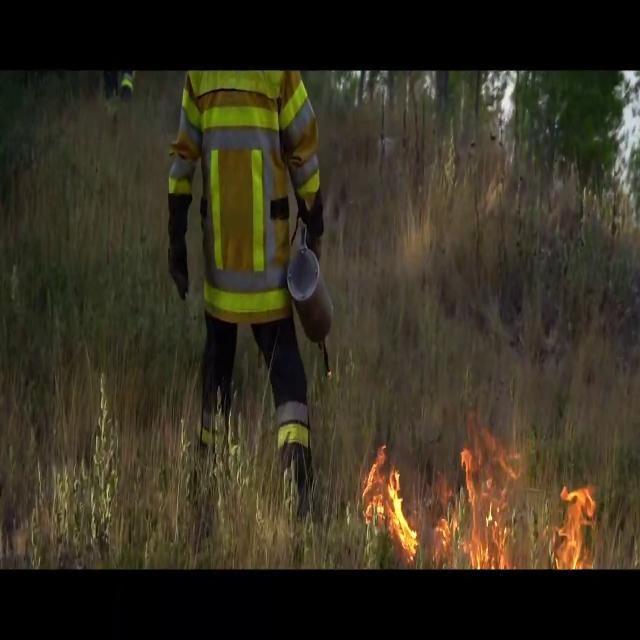Fire: (444, 419, 514, 567), (361, 442, 421, 562), (549, 477, 601, 568)
